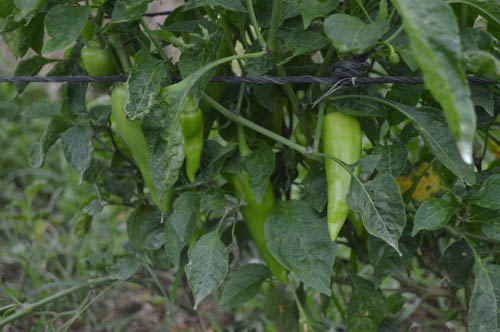ChiliPepper: (109, 86, 172, 210), (234, 166, 289, 280), (321, 112, 365, 244), (177, 111, 208, 187), (80, 47, 116, 78)
